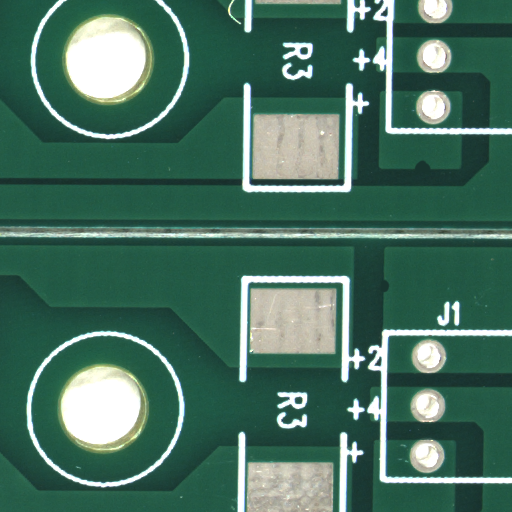Mouse_bite: (423, 165, 436, 176), (386, 286, 394, 301)
